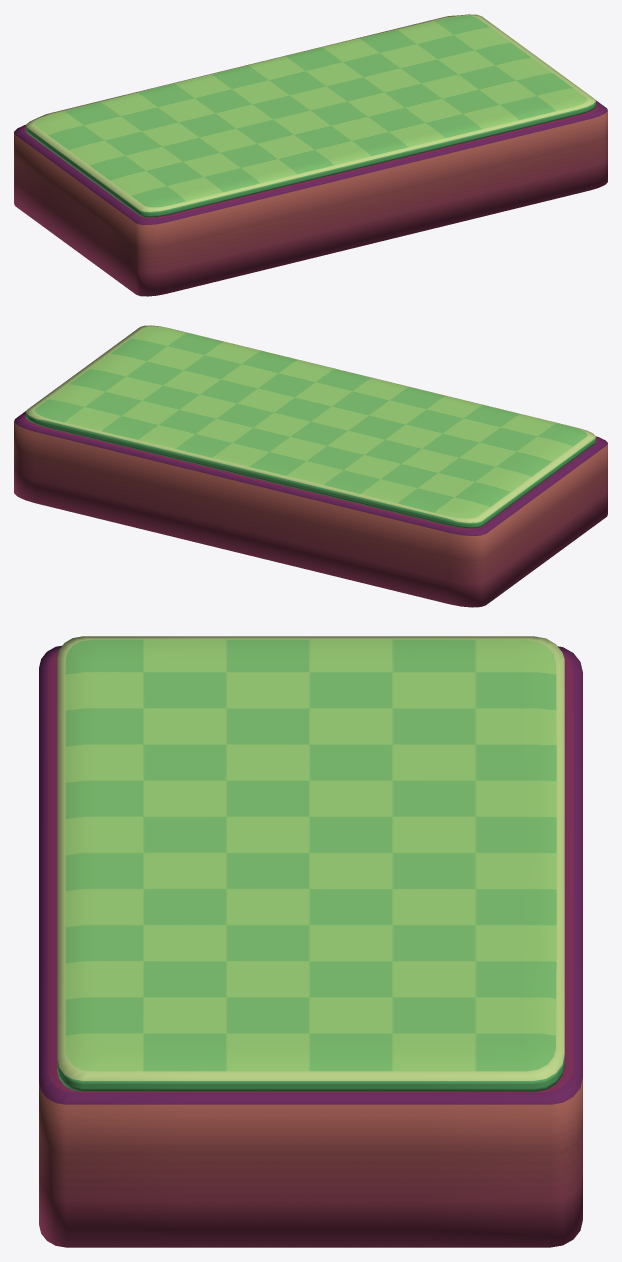
The picture shows the model from 3 angles, top to bottom: view 1: azimuth 30°, elevation 25°; view 2: azimuth 150°, elevation 25°; view 3: azimuth 270°, elevation 25°; orthographic projection. The views are drawn at different scales.
Visible parts, largest first — view 1: Platform Grass 12, Platform Soil 12; view 2: Platform Grass 12, Platform Soil 12; view 3: Platform Grass 12, Platform Soil 12.
Part boxes in pixels (x1,y1,x2,y2): Platform Grass 12: (26,14,595,217); Platform Soil 12: (14,100,607,296); Platform Grass 12: (26,325,595,528); Platform Soil 12: (14,411,607,607); Platform Grass 12: (57,636,564,1091); Platform Soil 12: (39,645,582,1247).
Size of the model in its own units: 1200 by 200 by 600.
2 materials, 2 textured.
